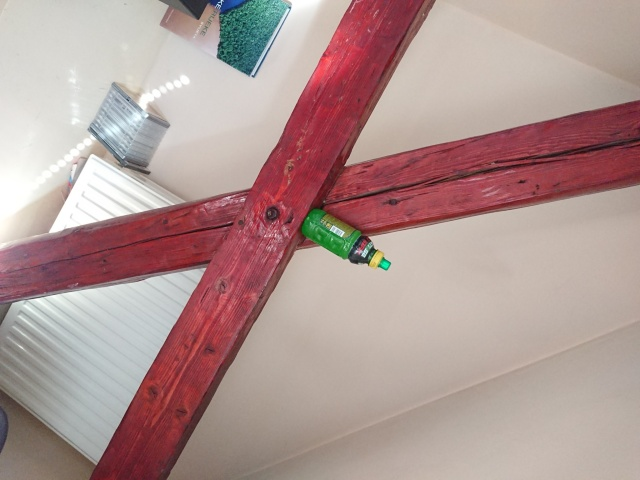Vindi Iso Sport Lemon-Grapefruit 500mL: (299, 207, 393, 272)
